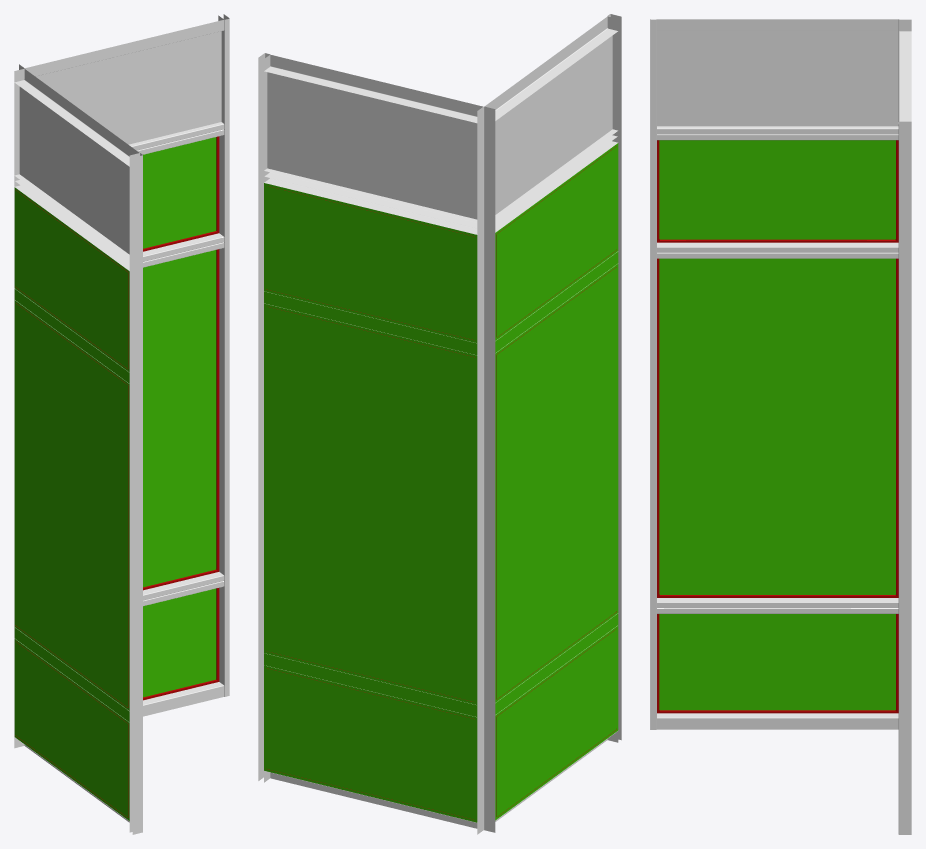
Rendered from Wall04CornerInt.fbx.
The picture shows the model from 3 angles, left to right: view 1: azimuth 30°, elevation 25°; view 2: azimuth 150°, elevation 25°; view 3: azimuth 270°, elevation 25°; orthographic projection. The views are drawn at different scales.
Visible parts, largest first — view 1: Wall04CornerInt; view 2: Wall04CornerInt; view 3: Wall04CornerInt.
Part boxes in pixels (x1,y1,x2,y2): Wall04CornerInt: (14,14,229,834); Wall04CornerInt: (258,14,621,834); Wall04CornerInt: (650,19,911,834).
Size of the model in its own units: 100 by 300 by 100.
